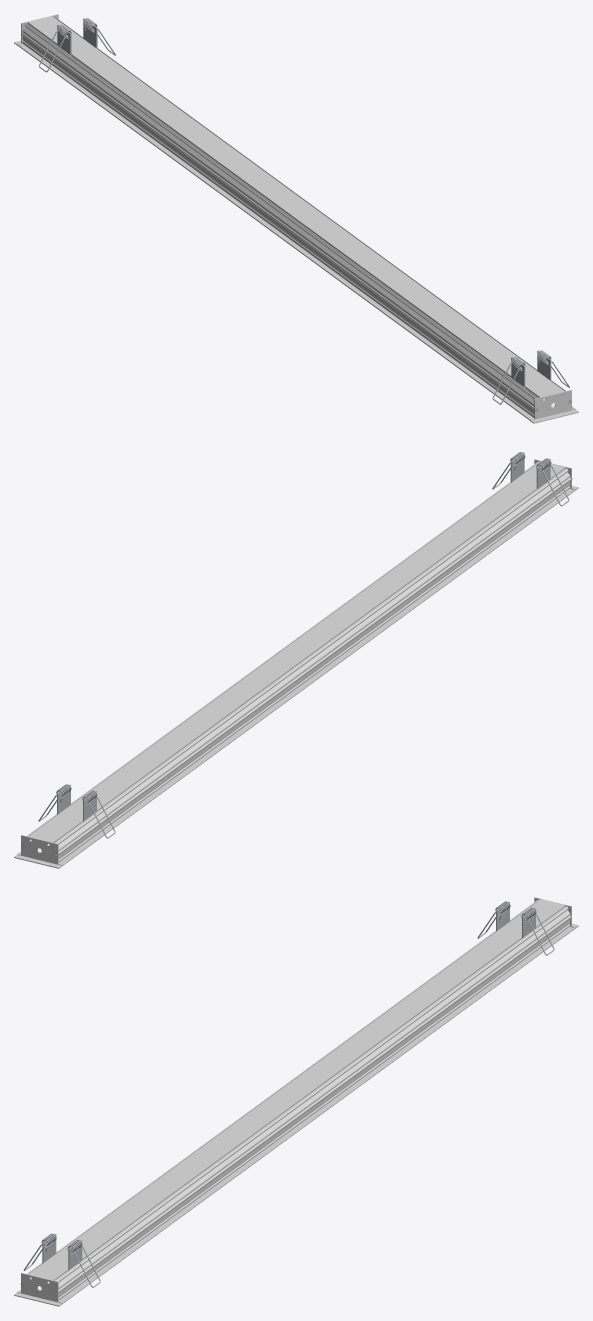
Rendered from Fit40StandardEmbutido.glb.
The picture shows the model from 3 angles, top to bottom: view 1: azimuth 30°, elevation 25°; view 2: azimuth 150°, elevation 25°; view 3: azimuth 330°, elevation 25°; orthographic projection.
Parts seen in each view (by area): view 1: 3DGeom-10, 3DGeom-3; view 2: 3DGeom-10, 3DGeom-3; view 3: 3DGeom-10, 3DGeom-3.
Part boxes in pixels (left/top/right/bottom): 3DGeom-10: left=17, top=16, right=574, bottom=420; 3DGeom-3: left=530, top=390, right=578, bottom=423; 3DGeom-10: left=18, top=461, right=575, bottom=865; 3DGeom-3: left=14, top=835, right=62, bottom=868; 3DGeom-10: left=18, top=899, right=575, bottom=1303; 3DGeom-3: left=14, top=1273, right=62, bottom=1306.
Bounding box in the file's own units: 0.0793 × 0.0469 × 1.02.
Materials: 3 (1 with a texture image).
